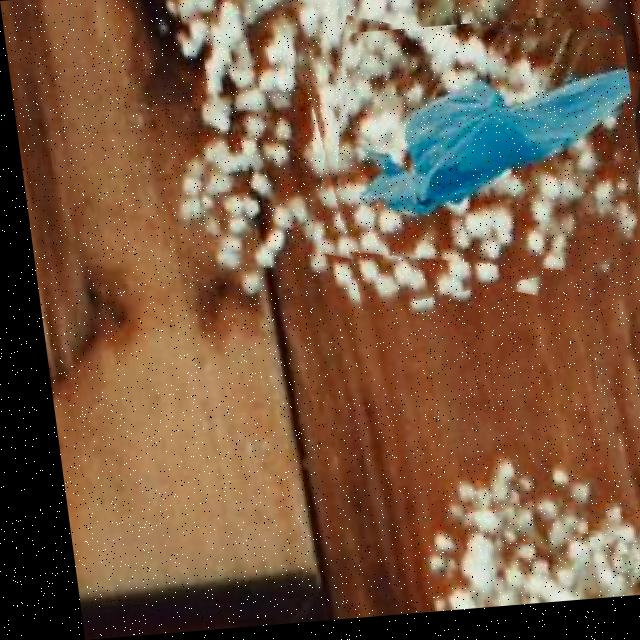litter: (294, 21, 640, 318)
